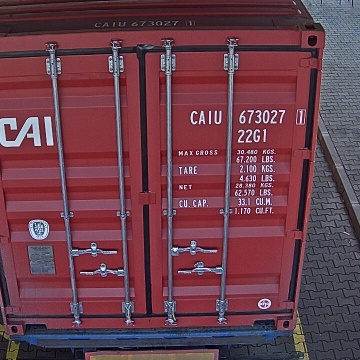serial_id: (189, 109, 304, 125)
